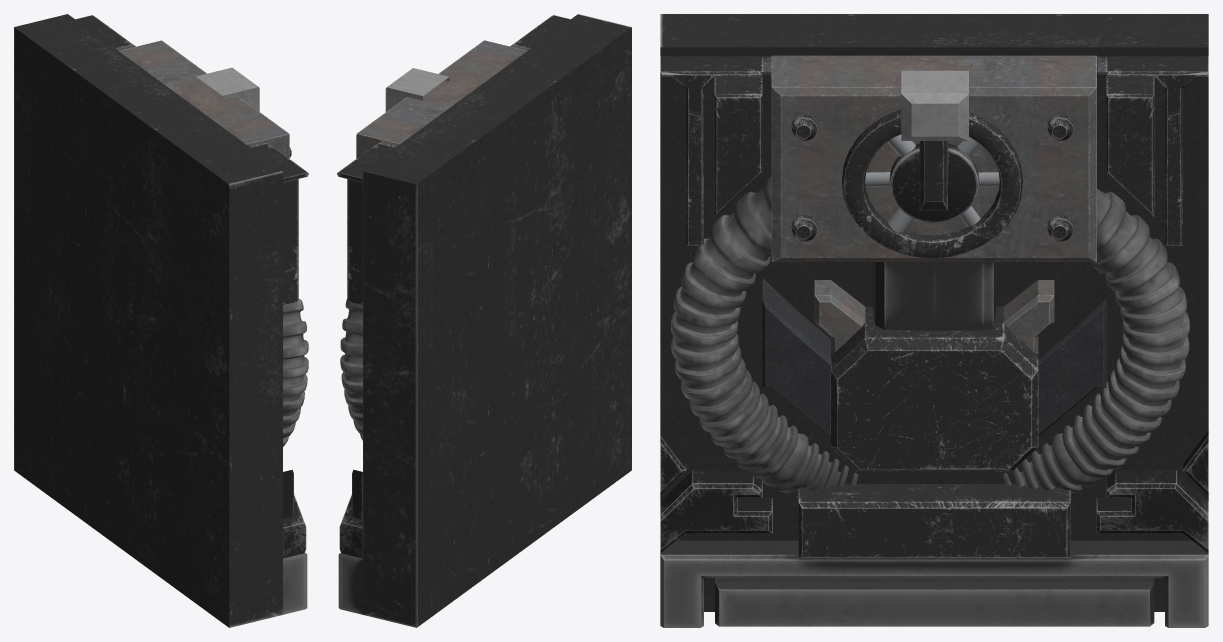
File: ExitDoor_DOOM_Fi.fbx
3 renders of one model, left to right at view 1: azimuth 30°, elevation 25°; view 2: azimuth 150°, elevation 25°; view 3: azimuth 270°, elevation 25°, orthographic. The views are drawn at different scales.
Parts seen in each view (by area): view 1: Cube.003, Cube.024, Cube.013, NurbsPath, Cube.005, Cube.001, Cube.012, Cube.004; view 2: Cube.003, Cube.024, Cube.013, NurbsPath, Cube.005, Cube.001, Cube.012, Cube.004; view 3: Cube, Cube.024, NurbsPath, Cube.005, Cube.007, Cube.013, Cube.006, Cube.003, Cube.008, Cube.012, Circle.002, Cube.011 (+5 smaller).
Boxes of the visible parts, x1,y1,x2,y2 form: Cube.003: (14, 14, 282, 627); Cube.024: (119, 40, 289, 158); Cube.013: (75, 15, 308, 305); NurbsPath: (283, 299, 308, 446); Cube.005: (283, 553, 307, 614); Cube.001: (195, 67, 259, 111); Cube.012: (283, 494, 306, 558); Cube.004: (283, 469, 293, 519); Cube.003: (363, 14, 631, 627); Cube.024: (356, 40, 527, 158); Cube.013: (337, 15, 570, 305); NurbsPath: (340, 299, 362, 440); Cube.005: (338, 553, 363, 614); Cube.001: (385, 68, 449, 111); Cube.012: (339, 494, 362, 558); Cube.004: (352, 469, 362, 519); Cube: (660, 47, 1208, 611); Cube.024: (771, 55, 1096, 261); NurbsPath: (671, 175, 1189, 497); Cube.005: (660, 540, 1208, 627); Cube.007: (831, 306, 1038, 471); Cube.013: (660, 56, 1208, 245); Cube.006: (798, 484, 1070, 558); Cube.003: (660, 14, 1208, 495); Cube.008: (762, 278, 1106, 436); Cube.012: (660, 470, 1208, 553); Circle.002: (842, 110, 1022, 258); Cube.011: (872, 262, 996, 330).
Size of the model in its own units: 76.84 by 252 by 222.
18 materials, 18 textured.
